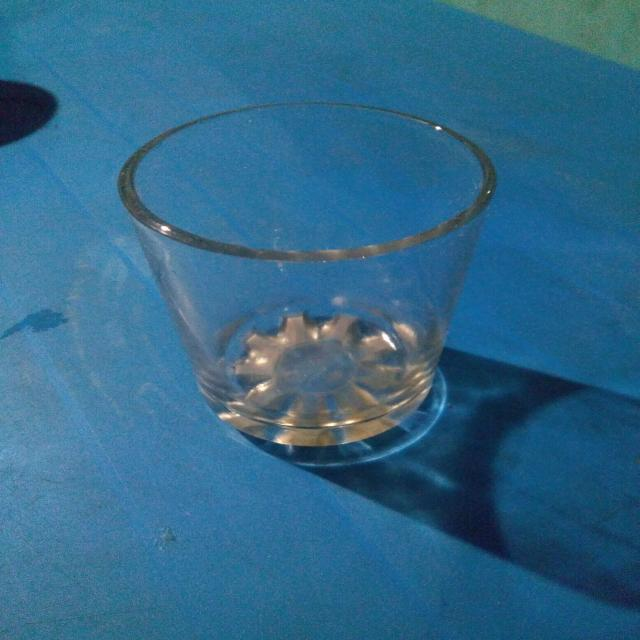Glass: (114, 97, 500, 451)
